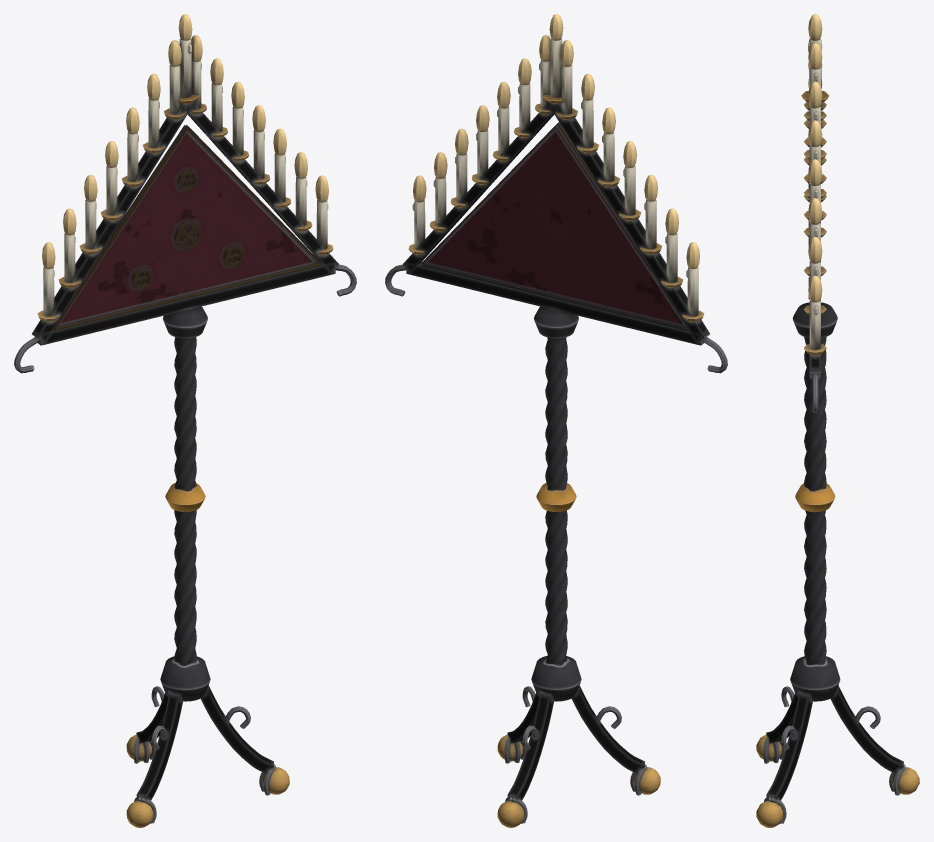
The model's file is CandleHearse.fbx.
3 renders of one model, left to right at view 1: azimuth 30°, elevation 25°; view 2: azimuth 150°, elevation 25°; view 3: azimuth 270°, elevation 25°, orthographic.
Visible parts, largest first — view 1: CandleHearse_Main, CandleHearse_Glow; view 2: CandleHearse_Main, CandleHearse_Glow; view 3: CandleHearse_Main, CandleHearse_Glow.
Part boxes in pixels (<box>): CandleHearse_Main: <box>14,38,356,827</box>; CandleHearse_Glow: <box>42,14,328,268</box>; CandleHearse_Main: <box>385,38,727,827</box>; CandleHearse_Glow: <box>413,14,699,268</box>; CandleHearse_Main: <box>756,39,919,827</box>; CandleHearse_Glow: <box>808,14,822,302</box>.
Bounding box in the file's own units: 313 × 683 × 129.
